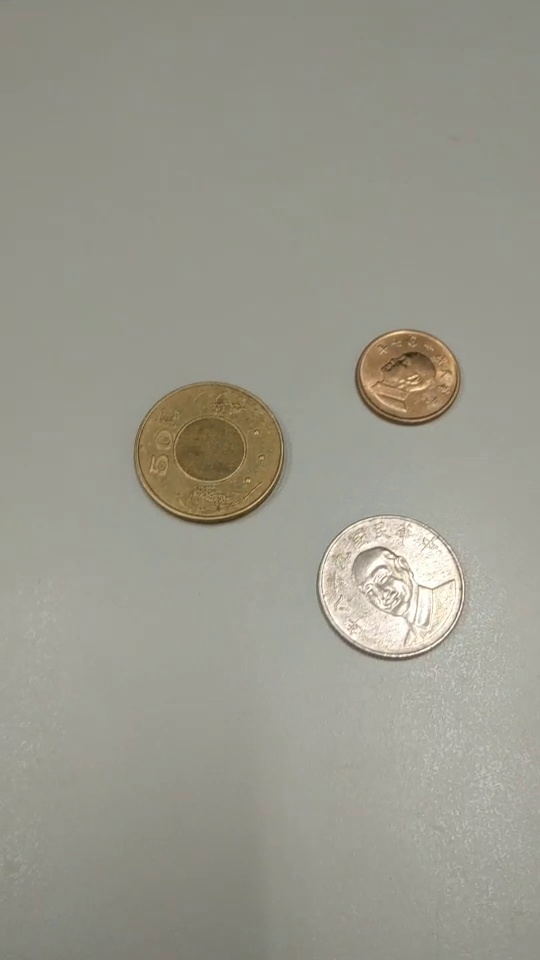NT$ 1: (354, 328, 461, 427)
NT$ 10: (317, 514, 466, 661)
NT$ 50: (133, 379, 286, 526)
